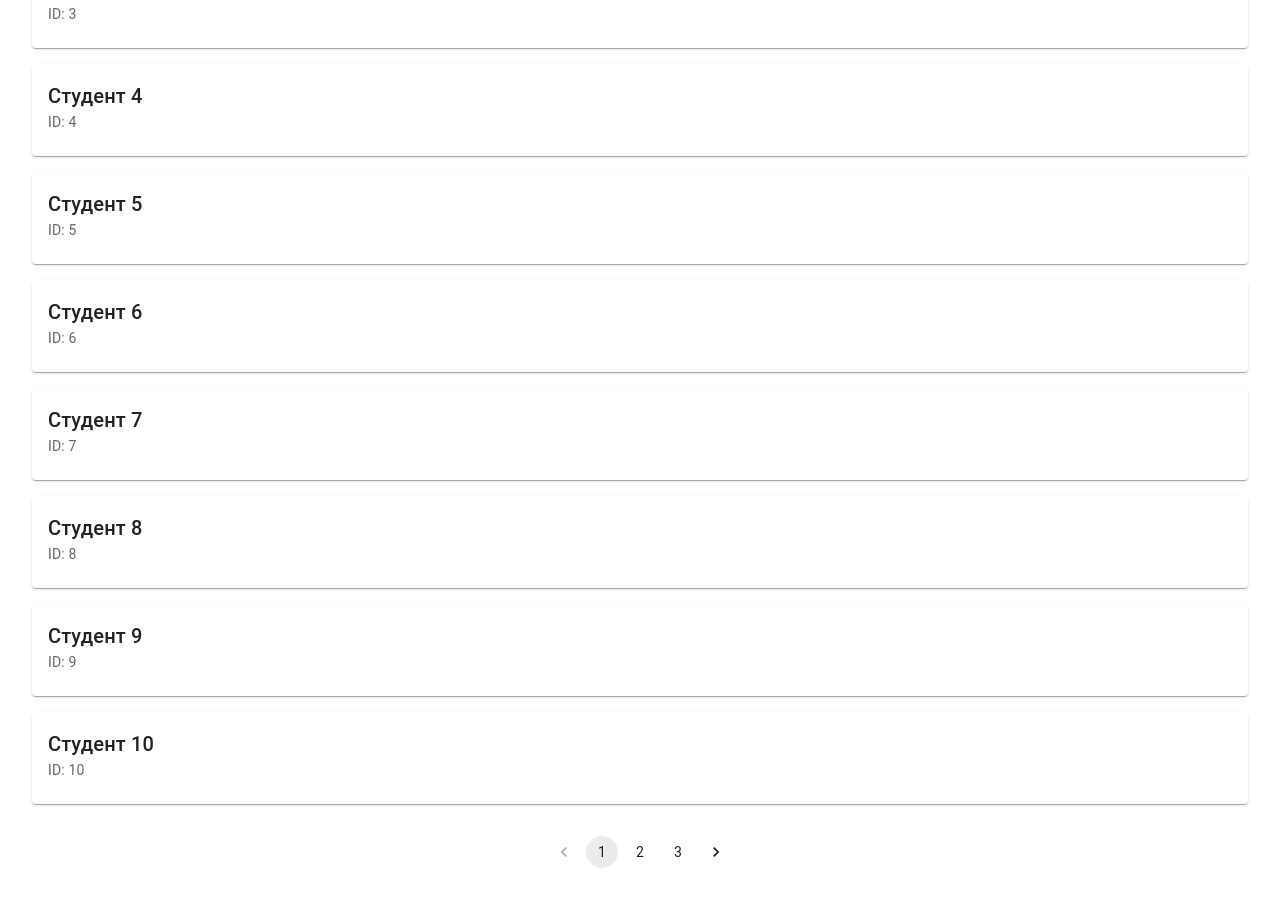
StudentsListPage › смена страницы через пагинацию отображает следующие студенты
The image size is (1280, 900).
(page scrolled)
Expected: the heading "Студент 10" is shown, [48, 732, 154, 756]
Click the button named "go to page 2".
click(640, 852)  # box [624, 836, 656, 868]
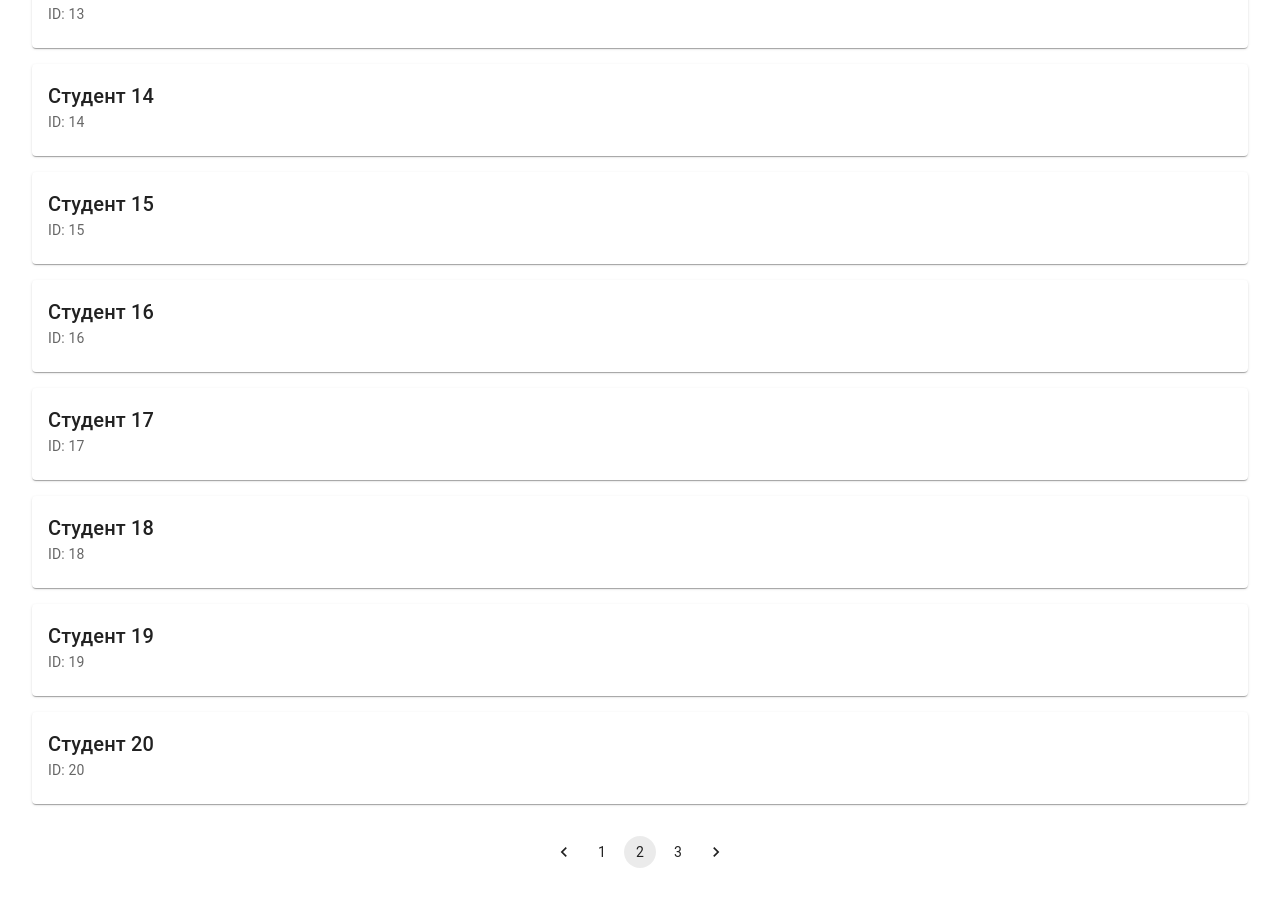
Expected: the heading "Студент 20" is shown, [48, 732, 154, 756]
